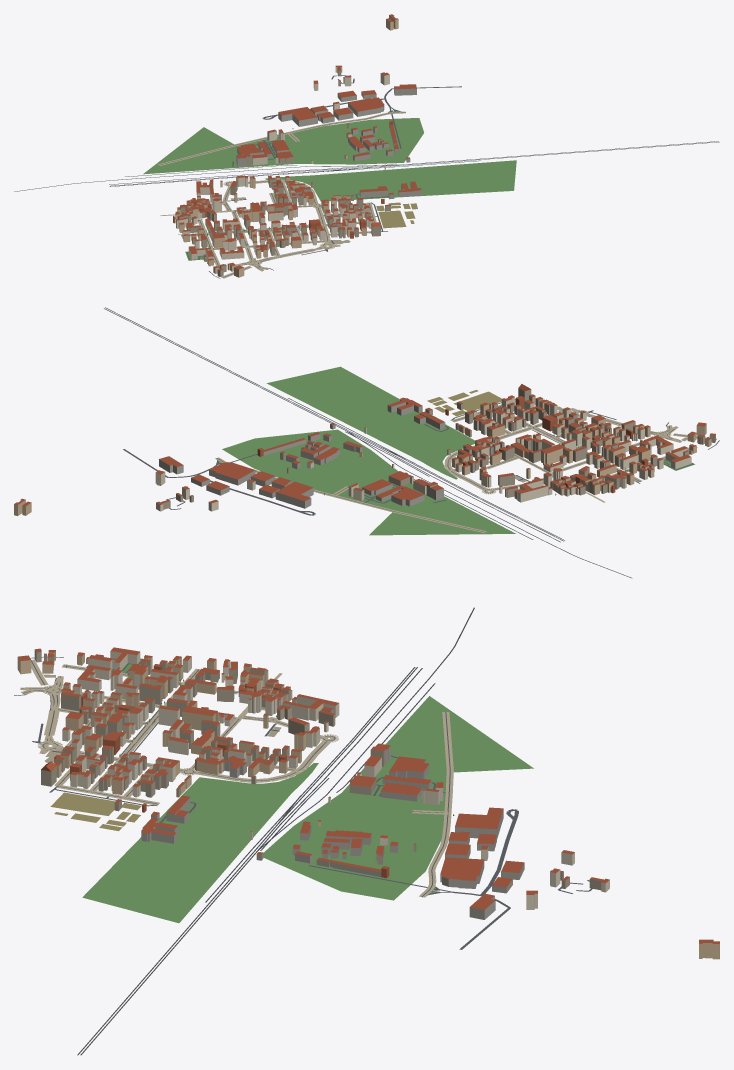
Rendered from sanlazzaro.glb.
3 views of the same model, one above another, from view 1: azimuth 30°, elevation 25°; view 2: azimuth 150°, elevation 25°; view 3: azimuth 270°, elevation 25° (orthographic). The views are drawn at different scales.
Visible parts, largest first — view 1: quartiere-sanlazzaro; view 2: quartiere-sanlazzaro; view 3: quartiere-sanlazzaro.
Part boxes in pixels (x1,y1,x2,y2): quartiere-sanlazzaro: (14, 14, 719, 278); quartiere-sanlazzaro: (14, 307, 719, 578); quartiere-sanlazzaro: (14, 607, 719, 1055).
Bounding box in the file's own units: 1901 × 38.46 × 1266.
